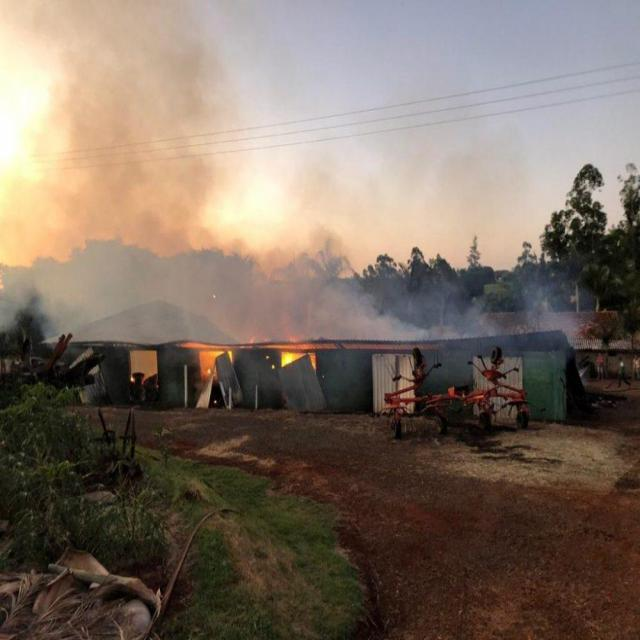Fire: (189, 342, 224, 359), (280, 349, 299, 366)
